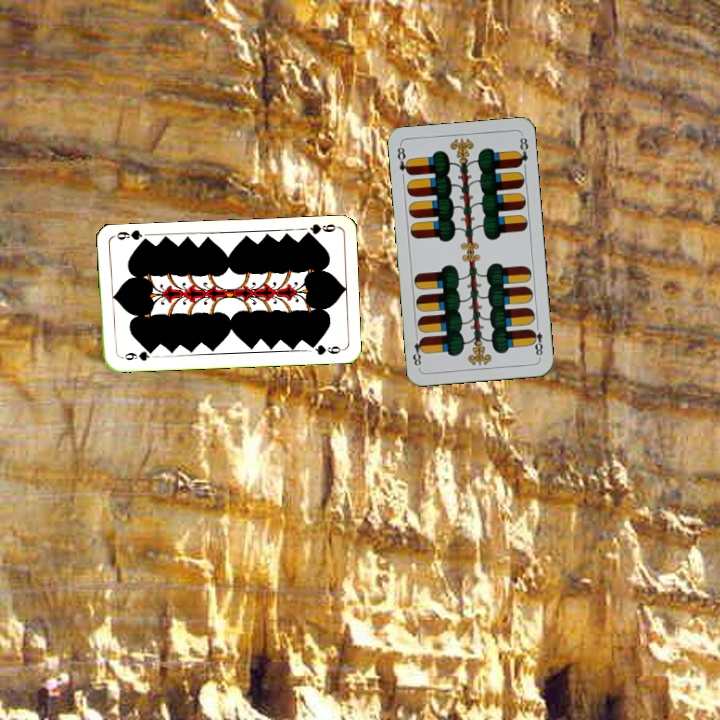E8: (527, 320, 545, 360), (393, 142, 413, 178)
G9: (300, 220, 340, 239), (116, 347, 156, 364)
